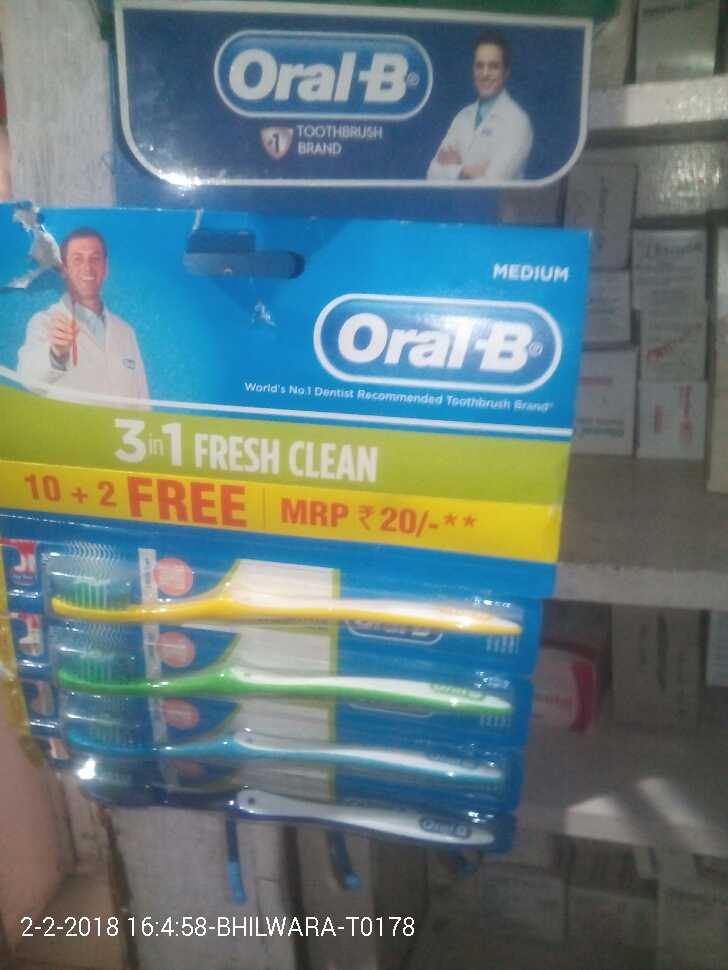oralb: (43, 544, 523, 640), (59, 697, 522, 789), (42, 638, 536, 718)
